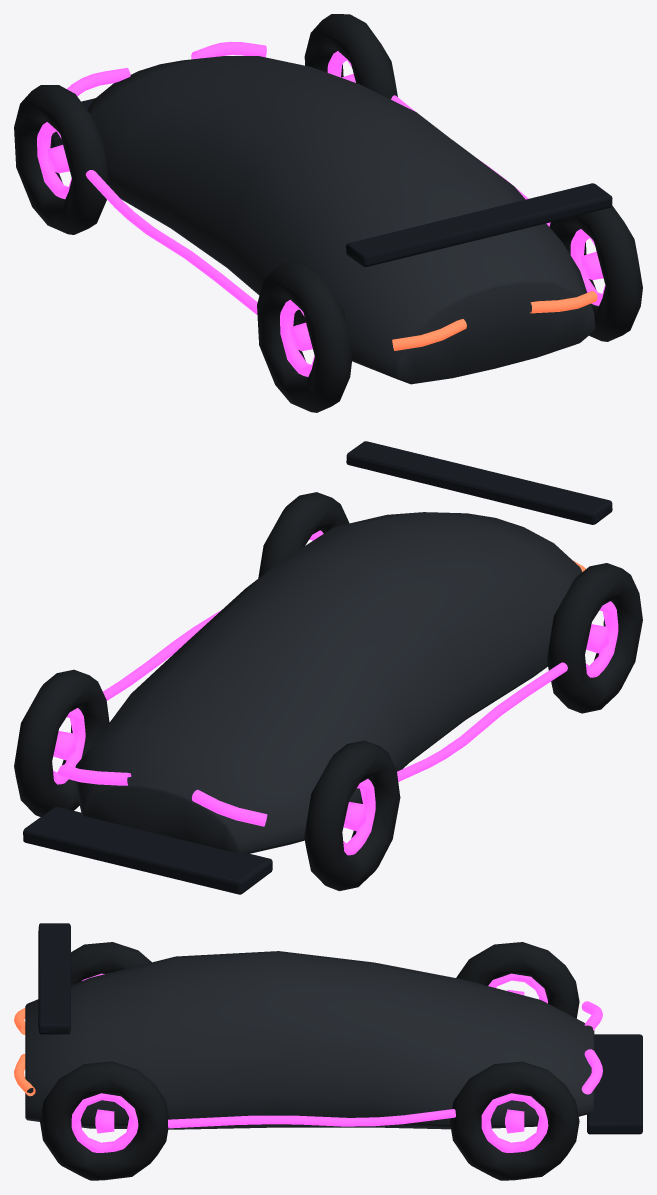
Rendered from Rival03_Prototype_LOD1.fbx.
3 views of the same model, one above another, from view 1: azimuth 30°, elevation 25°; view 2: azimuth 150°, elevation 25°; view 3: azimuth 270°, elevation 25° (orthographic). The views are drawn at different scales.
Visible parts, largest first — view 1: Rival03_Prototype_Body_LOD1, Rival03_Prototype_Wheel_RL_LOD1, Rival03_Prototype_Wheel_FL_LOD1, Rival03_Prototype_Wheel_RR_LOD1, Rival03_Prototype_Wheel_FR_LOD1; view 2: Rival03_Prototype_Body_LOD1, Rival03_Prototype_Wheel_FL_LOD1, Rival03_Prototype_Wheel_RL_LOD1, Rival03_Prototype_Wheel_FR_LOD1, Rival03_Prototype_Wheel_RR_LOD1; view 3: Rival03_Prototype_Body_LOD1, Rival03_Prototype_Wheel_RR_LOD1, Rival03_Prototype_Wheel_FR_LOD1, Rival03_Prototype_Wheel_FL_LOD1, Rival03_Prototype_Wheel_RL_LOD1.
Part boxes in pixels (x1,y1,x2,y2): Rival03_Prototype_Body_LOD1: (52, 41, 612, 384); Rival03_Prototype_Wheel_RL_LOD1: (257, 262, 352, 412); Rival03_Prototype_Wheel_FL_LOD1: (14, 85, 109, 234); Rival03_Prototype_Wheel_RR_LOD1: (549, 205, 642, 341); Rival03_Prototype_Wheel_FR_LOD1: (304, 14, 397, 99); Rival03_Prototype_Body_LOD1: (23, 441, 612, 894); Rival03_Prototype_Wheel_FL_LOD1: (304, 740, 400, 891); Rival03_Prototype_Wheel_RL_LOD1: (547, 563, 642, 713); Rival03_Prototype_Wheel_FR_LOD1: (14, 669, 109, 816); Rival03_Prototype_Wheel_RR_LOD1: (258, 492, 349, 578); Rival03_Prototype_Body_LOD1: (14, 923, 642, 1134); Rival03_Prototype_Wheel_RR_LOD1: (40, 1061, 169, 1180); Rival03_Prototype_Wheel_FR_LOD1: (450, 1061, 579, 1180); Rival03_Prototype_Wheel_FL_LOD1: (456, 942, 579, 1018); Rival03_Prototype_Wheel_RL_LOD1: (71, 942, 151, 985).
Bounding box in the file's own units: 2.13 × 1.18 × 4.27.
